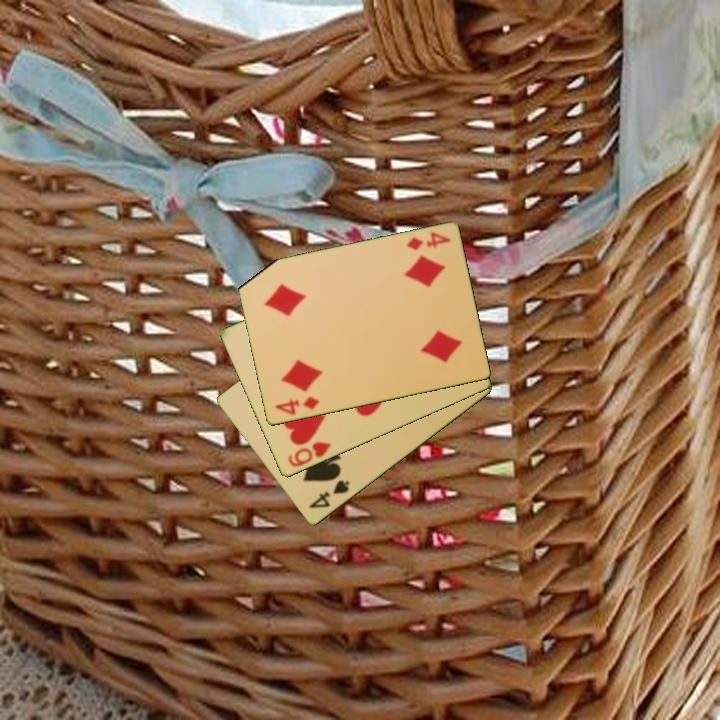4d: (271, 393, 322, 418), (403, 229, 453, 254)
4s: (305, 476, 352, 512)
6h: (284, 439, 334, 470)
